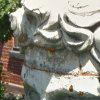Statue: (8, 4, 100, 100)
